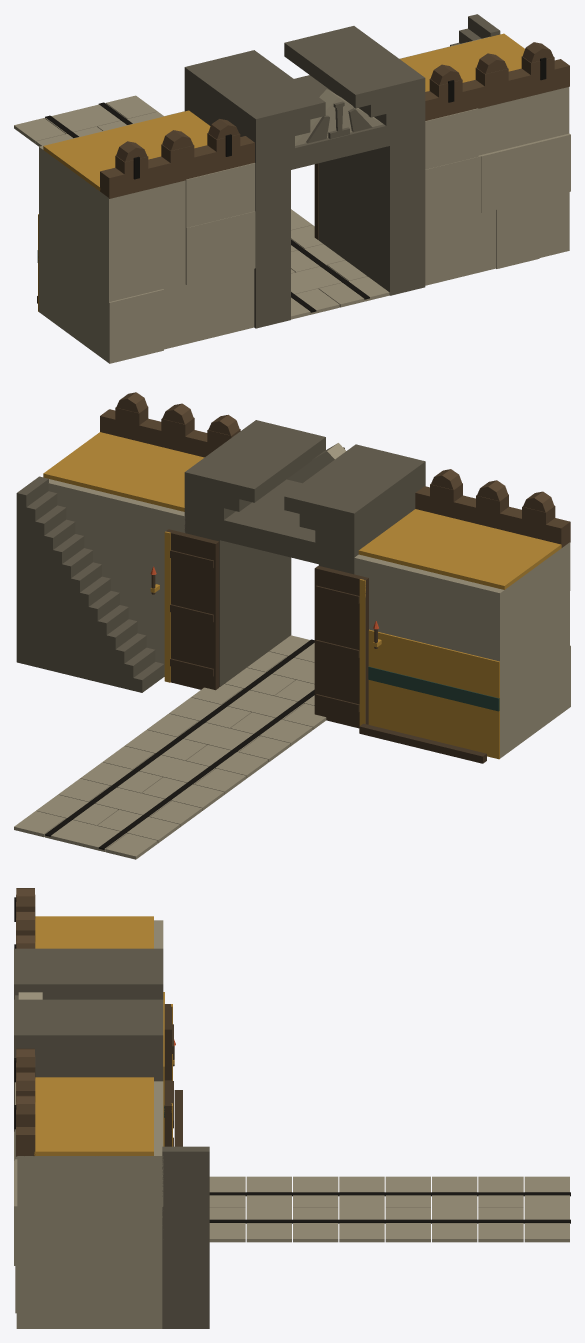
The model's file is BronzeLionGate.fbx.
The picture shows the model from 3 angles, top to bottom: view 1: azimuth 30°, elevation 25°; view 2: azimuth 150°, elevation 25°; view 3: azimuth 270°, elevation 25°; orthographic projection. The views are drawn at different scales.
Visible parts, largest first — view 1: BronzeLionGate; view 2: BronzeLionGate; view 3: BronzeLionGate.
Boxes of the visible parts, x1=… form: BronzeLionGate: x1=14, y1=14, x2=570, y2=363; BronzeLionGate: x1=14, y1=392, x2=570, y2=859; BronzeLionGate: x1=14, y1=888, x2=570, y2=1328.
Bounding box in the file's own units: 1202 × 522 × 1202.
8 materials, 8 textured.
